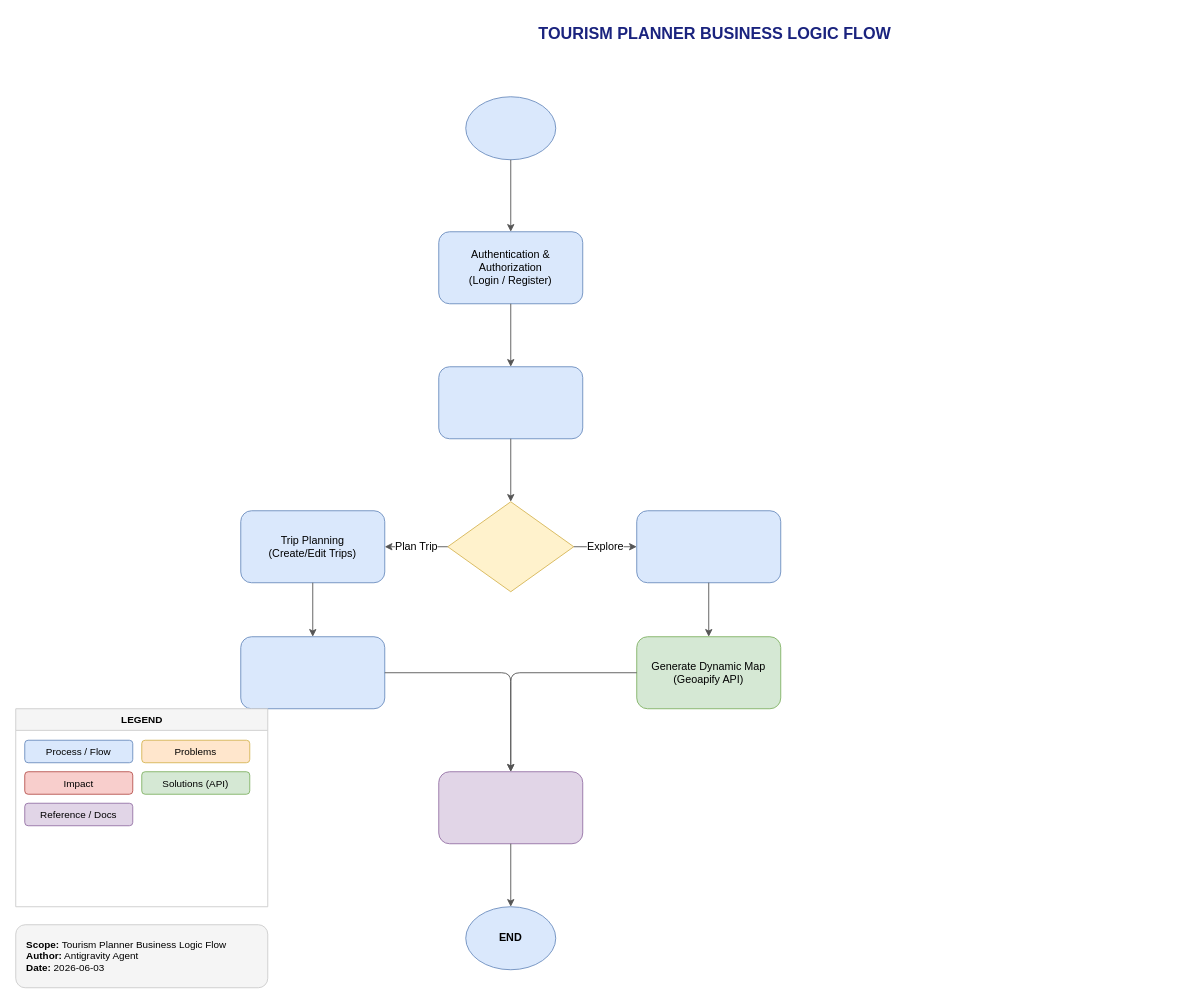
Some shapes in this 1181 by 1004 pixel diagram are drawn without their labels. Here are the shapes that lost their labels. From the top down, the centre of each, then its label:
At (x=510, y=128): "START".
At (x=510, y=402): "User Dashboard (Overview)".
At (x=510, y=546): "Action Type?".
At (x=708, y=546): "Spontaneous Adventures (Discovery)".
At (x=312, y=672): "Add Destinations / Places (TripDestinations)".
At (x=510, y=807): "MongoDB Database (Save Records)".
